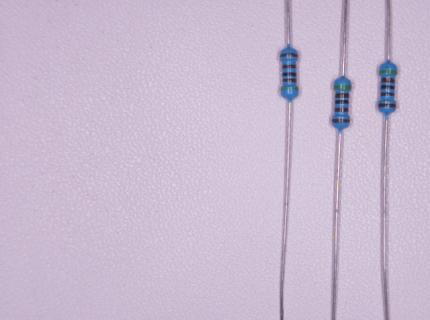Black band: (381, 85, 395, 90), (283, 72, 296, 77), (335, 100, 348, 104)
Brown band: (280, 53, 298, 57), (332, 119, 350, 123), (335, 93, 349, 98), (379, 104, 396, 108), (381, 78, 394, 83), (380, 92, 395, 96), (282, 65, 296, 69), (282, 78, 296, 82), (335, 108, 348, 112)
Green band: (334, 86, 351, 90), (281, 87, 297, 91), (380, 70, 396, 74)
